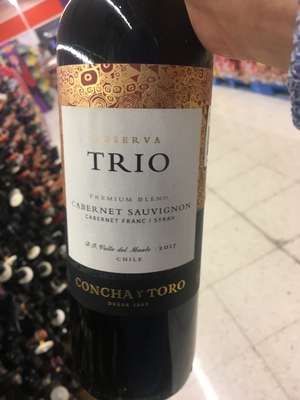trio cabernet sauvignon: (57, 10, 222, 400)
